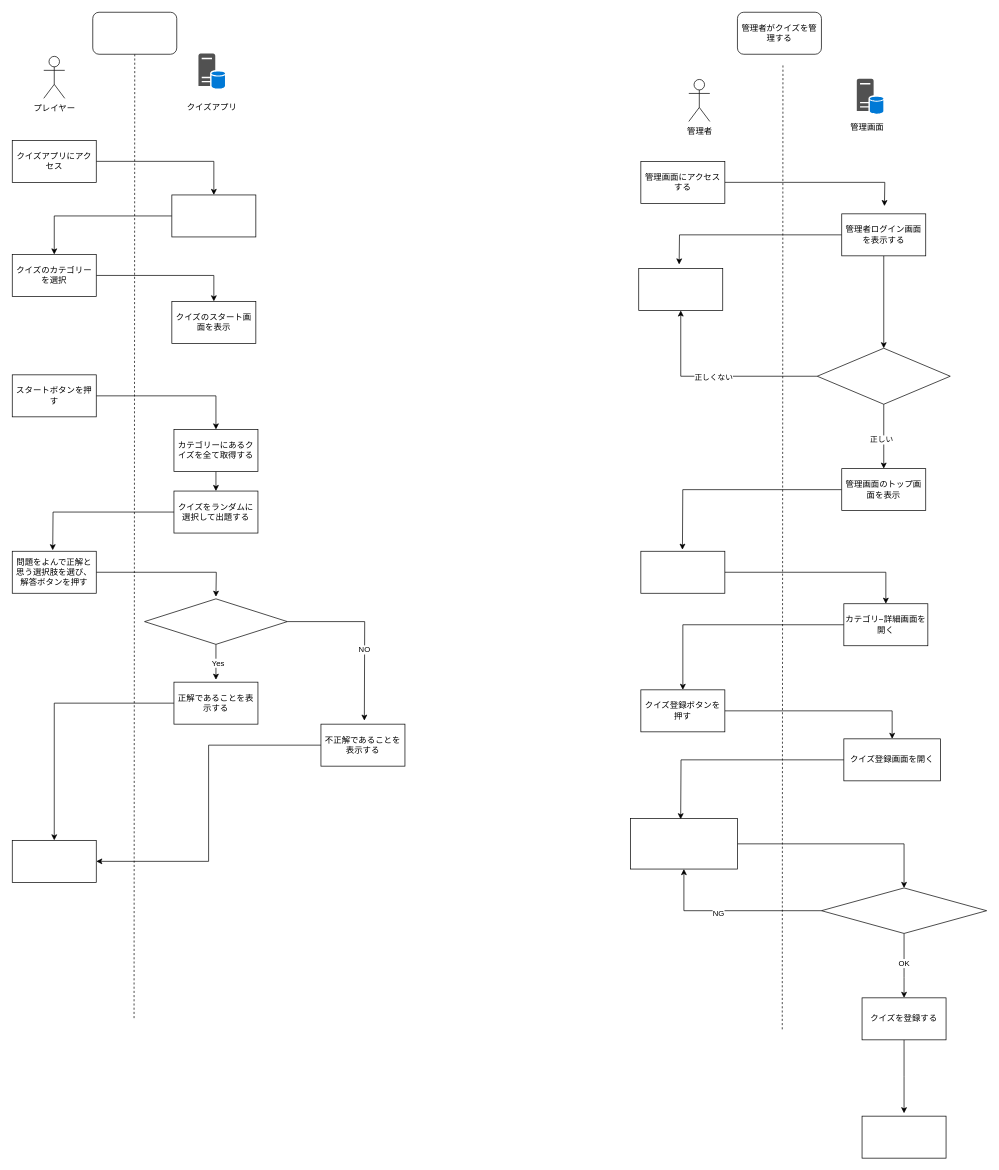
Image size: 999x1170. Some labels were removed from this diagram. The shapes that lost their labels are listed below. From the top down, each one's centre as x and y in pixels, then its label:
At point (134, 33): "プレイヤーがクイズに挑戦する".
At point (213, 215): "カテゴリー選択画面を表示".
At point (680, 289): "ログイン情報を入力し、ログインボタンを押す".
At point (883, 376): "ログイン情報を検証する".
At point (682, 572): "カテゴリーを選択".
At point (215, 621): "解答が正しいか？".
At point (54, 861): "解答の結果を確認して、次の問題に進む".
At point (683, 843): "クイズの問題や選択肢などの情報を入力して、登録ボタンを押す".
At point (904, 910): "入力した情報が登録可能か？".
At point (903, 1136): "カテゴリー詳細画面を開く".
